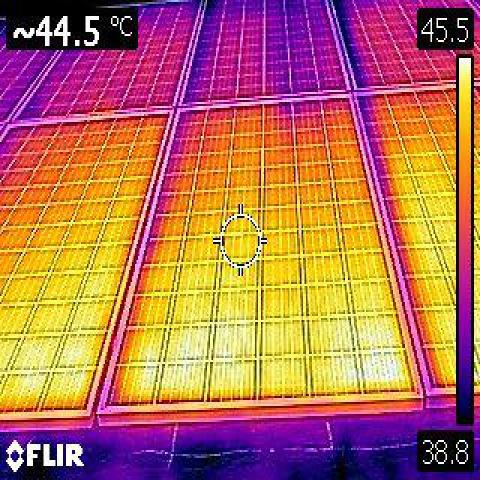fault: (358, 311, 408, 396), (168, 316, 202, 402)
